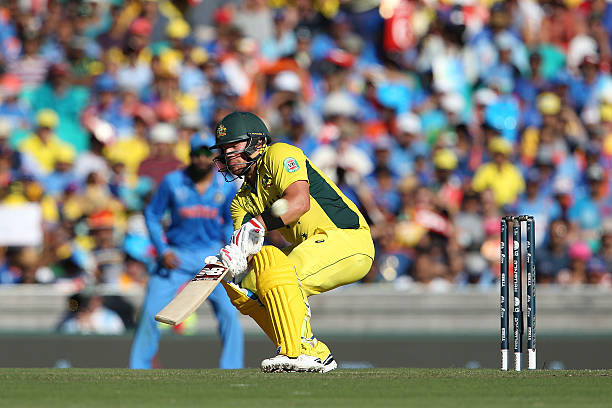bottom left: (151, 308, 167, 327)
bottom right: (167, 312, 185, 333)
top left: (203, 257, 215, 268)
top right: (223, 260, 235, 277)
